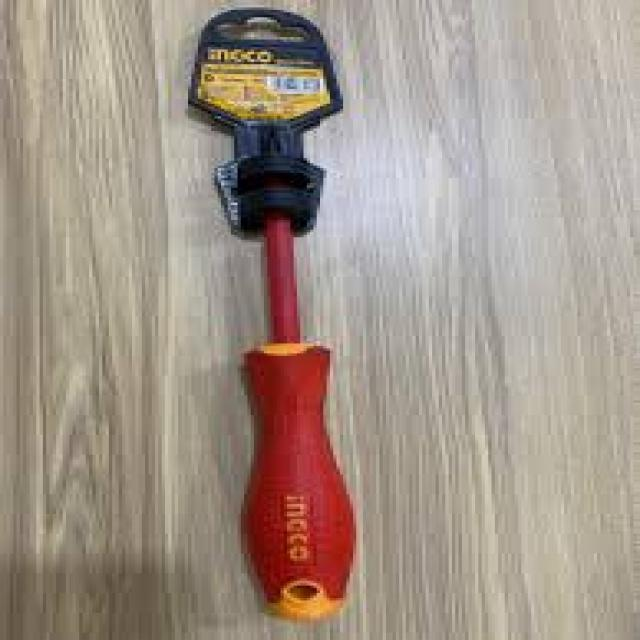screwdriver: (232, 124, 364, 622)
